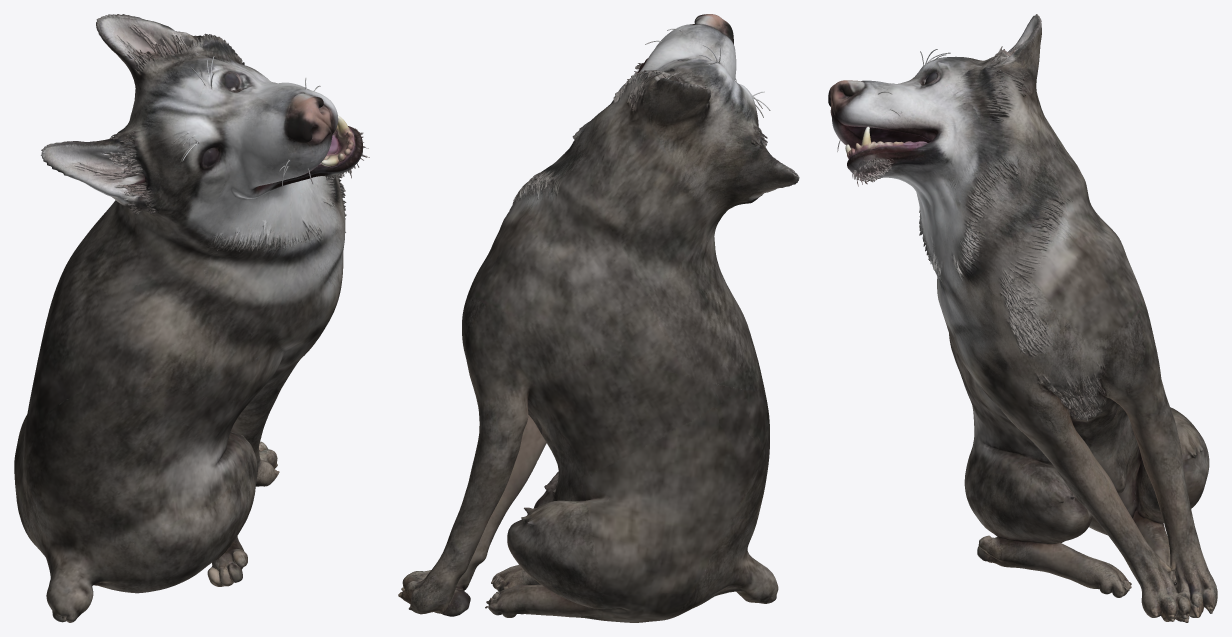
Rendered from Lee.glb.
The picture shows the model from 3 angles, left to right: view 1: azimuth 30°, elevation 25°; view 2: azimuth 150°, elevation 25°; view 3: azimuth 270°, elevation 25°; orthographic projection. The views are drawn at different scales.
Size of the model in its own units: 1.16 by 1.9 by 1.32.
1 material, 1 textured.
